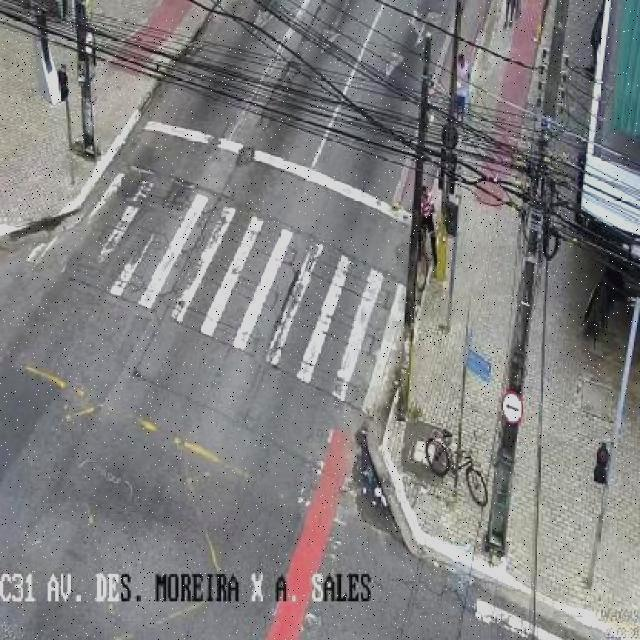Cycle: (424, 426, 489, 509)
